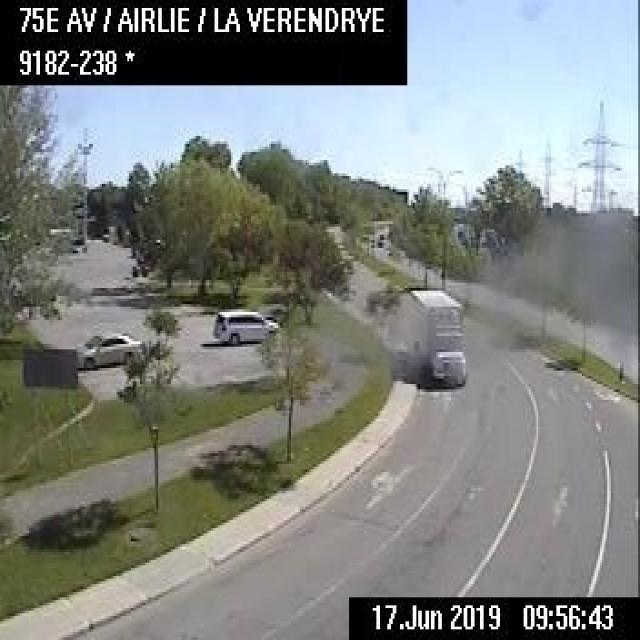vehicle: (400, 284, 467, 390), (74, 327, 142, 368), (211, 306, 279, 342)
